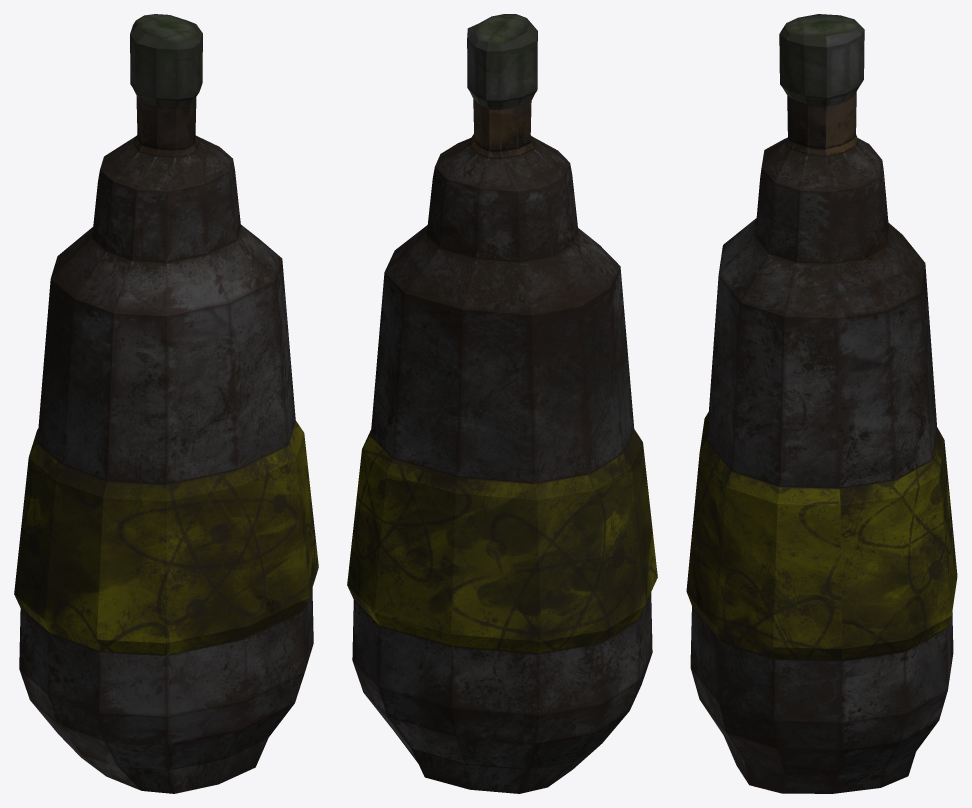
Rendered from Gas_Bottle.fbx.
The picture shows the model from 3 angles, left to right: view 1: azimuth 30°, elevation 25°; view 2: azimuth 150°, elevation 25°; view 3: azimuth 270°, elevation 25°; orthographic projection.
Visible parts, largest first — view 1: Gas_Bottle; view 2: Gas_Bottle; view 3: Gas_Bottle.
Part boxes in pixels (bbox=[...]): Gas_Bottle: bbox=[14, 14, 318, 793]; Gas_Bottle: bbox=[347, 14, 657, 793]; Gas_Bottle: bbox=[686, 14, 957, 793].
Bounding box in the file's own units: 46.88 × 125 × 41.28.
